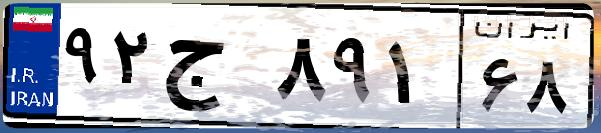1: (385, 28, 445, 110)
2: (110, 28, 158, 98)
6: (475, 38, 525, 113)
8: (270, 28, 330, 110), (525, 38, 570, 115)
9: (330, 28, 385, 110), (57, 26, 110, 100)
ج: (158, 20, 270, 120)
